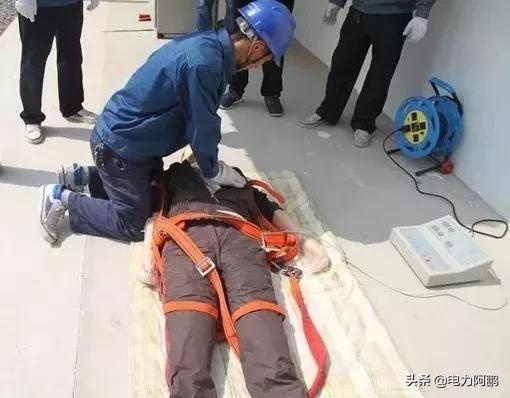falling: (113, 136, 389, 397)
